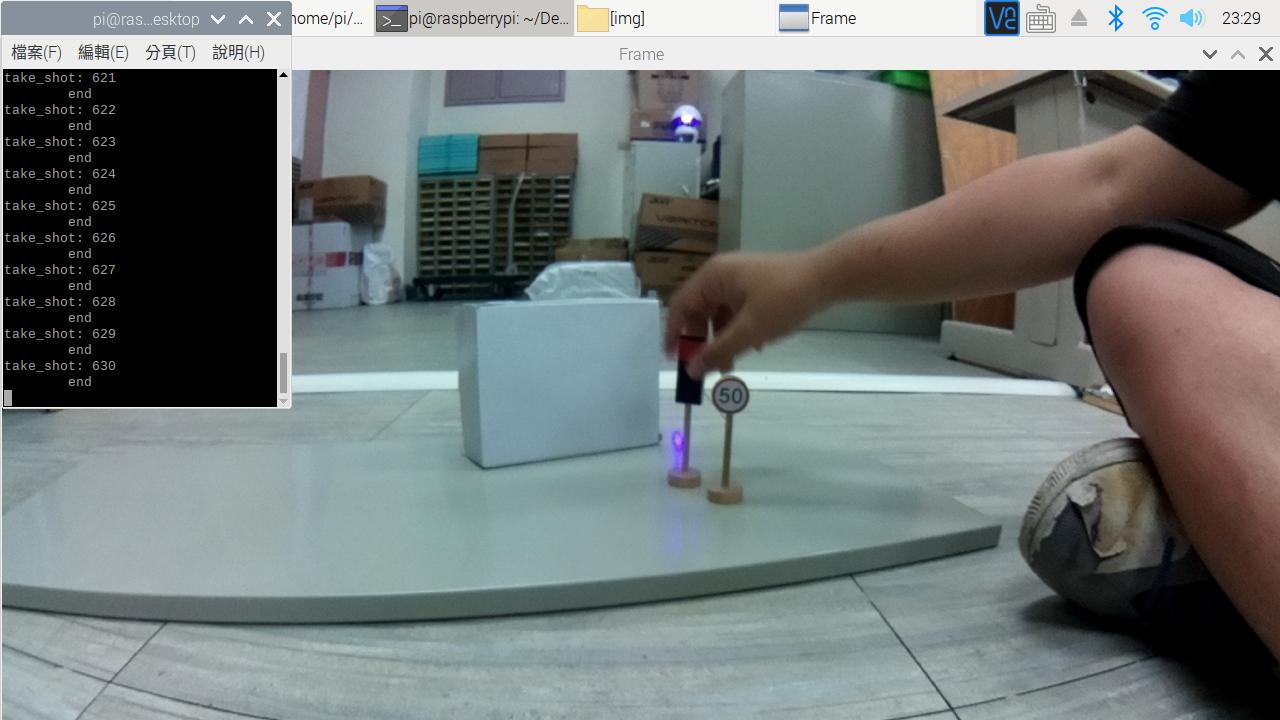Speed50: (707, 372, 757, 424)
